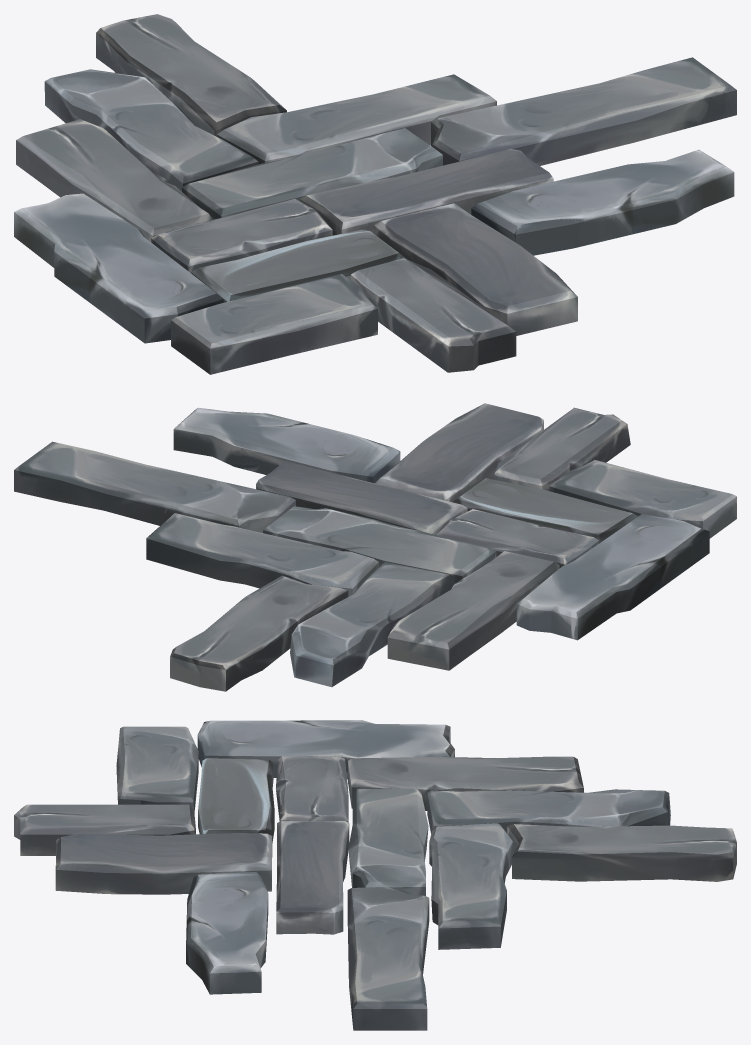
Rendered from dimian01.fbx.
3 views of the same model, one above another, from view 1: azimuth 30°, elevation 25°; view 2: azimuth 150°, elevation 25°; view 3: azimuth 270°, elevation 25° (orthographic). The views are drawn at different scales.
Visible parts, largest first — view 1: DIMI003; view 2: DIMI003; view 3: DIMI003.
Boxes of the visible parts, left/top/right/bottom form: DIMI003: left=14, top=14, right=736, bottom=374; DIMI003: left=14, top=403, right=736, bottom=691; DIMI003: left=14, top=720, right=736, bottom=1030.
Bounding box in the file's own units: 304 × 14.33 × 323.
Materials: 1 (1 with a texture image).
